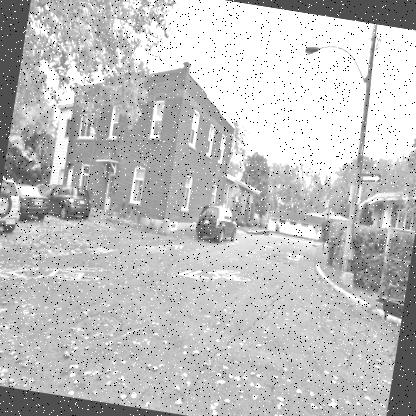Car: (189, 194, 238, 242), (47, 184, 94, 219), (0, 174, 25, 239), (12, 184, 49, 218)
